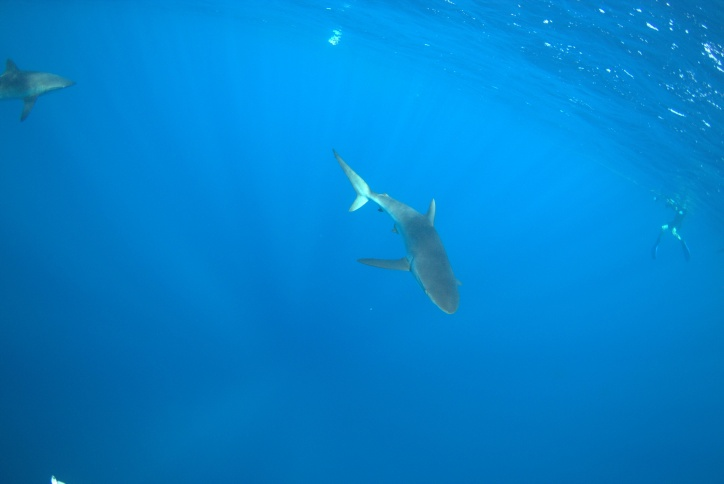Sedoso: (308, 131, 470, 327)
